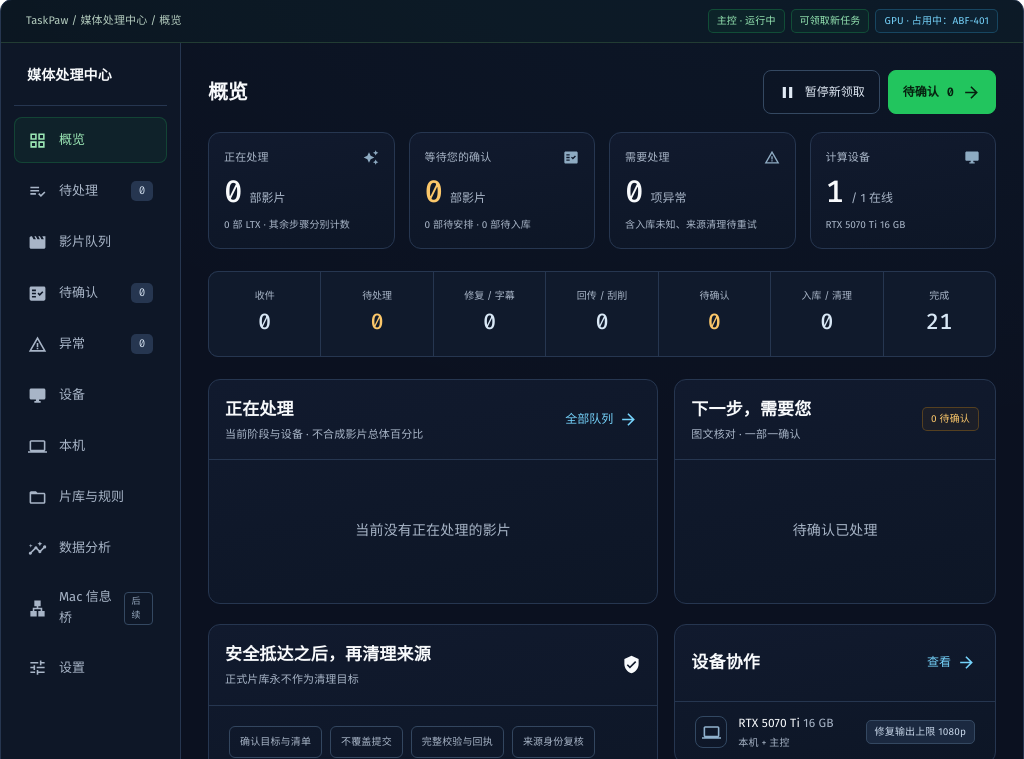
Test case: #302 finished history › shows the full overview count and pages completed films
Click the button "完成 21". click: click(939, 314)
box: [884, 272, 995, 356]
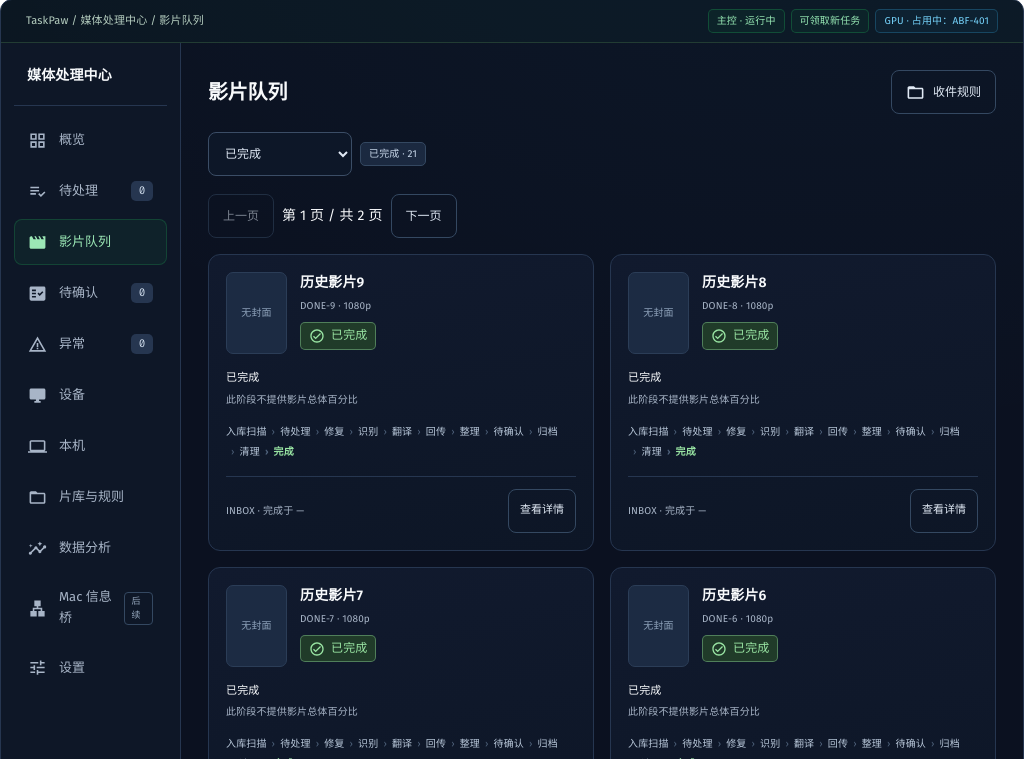
Check: the text "已完成 · 21" is shown, box [360, 142, 426, 166]
Check: the text "第 1 页 / 共 2 页" is shown, box [282, 205, 382, 227]
Check: the button "上一页" is disabled, box [208, 194, 274, 238]
Click the button "下一页". click: click(424, 216)
box: [390, 194, 456, 238]
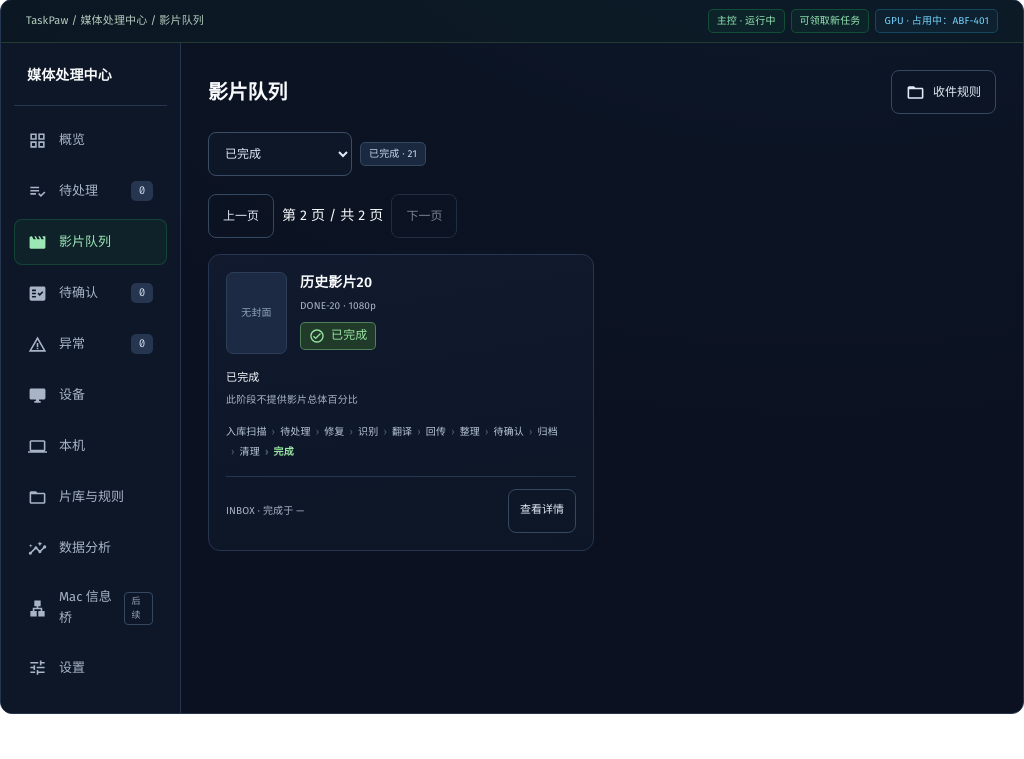
Check: the heading "历史影片20" is shown, box [300, 272, 372, 294]
Check: the text "第 2 页 / 共 2 页" is shown, box [282, 205, 383, 227]
Check: the button "下一页" is disabled, box [391, 194, 457, 238]
Click the button "上一页". click: click(241, 216)
box: [208, 194, 274, 238]
(page scrolled)
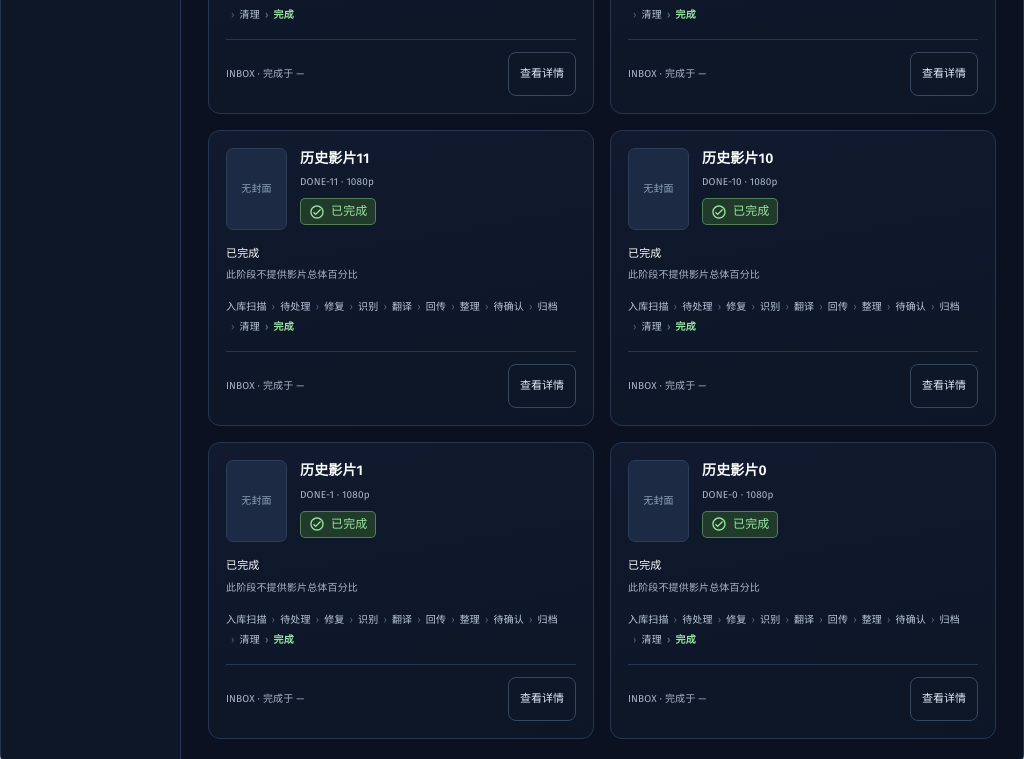
Check: the heading "历史影片0" is shown, box [702, 460, 767, 483]
